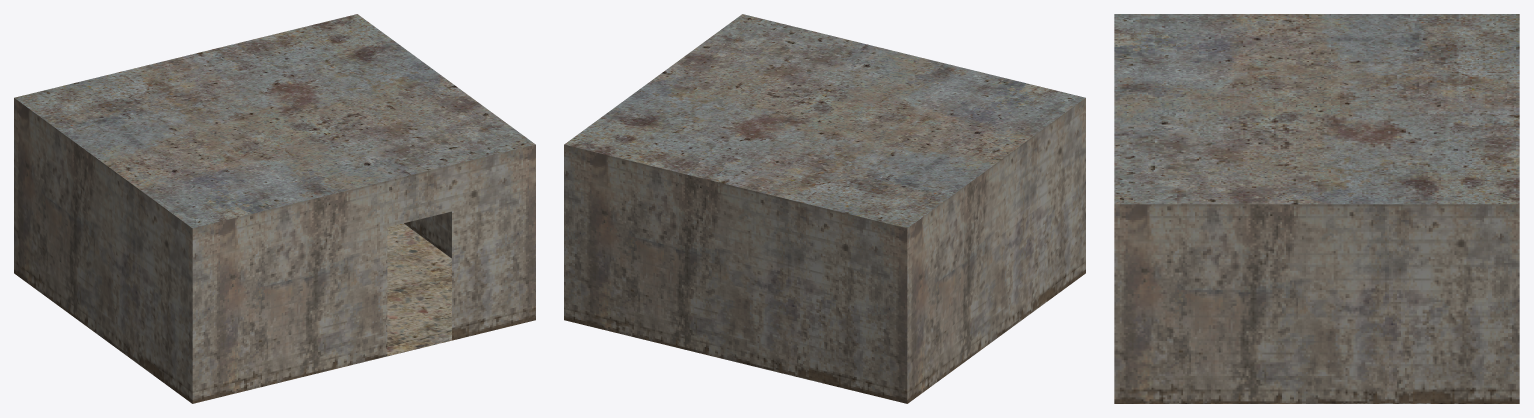
Rendered from _Room_1.FBX.
3 renders of one model, left to right at view 1: azimuth 30°, elevation 25°; view 2: azimuth 150°, elevation 25°; view 3: azimuth 270°, elevation 25°, orthographic. The views are drawn at different scales.
Visible parts, largest first — view 1: _Room_1; view 2: _Room_1; view 3: _Room_1.
Boxes of the visible parts, <box> form: _Room_1: <box>14,14,535,403</box>; _Room_1: <box>564,14,1085,403</box>; _Room_1: <box>1114,14,1519,403</box>.
Bounding box in the file's own units: 500 × 244 × 450.
Materials: 3 (3 with a texture image).
